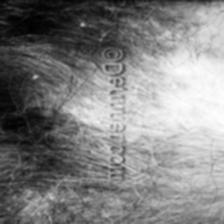Non-Cancerous Skin Condition: (12, 0, 104, 156), (150, 16, 224, 170)
